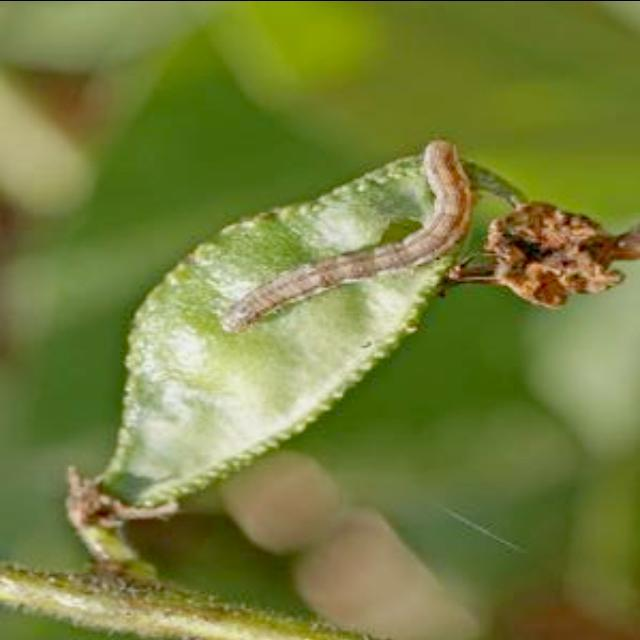Cotton bollworm: (190, 107, 504, 390)
